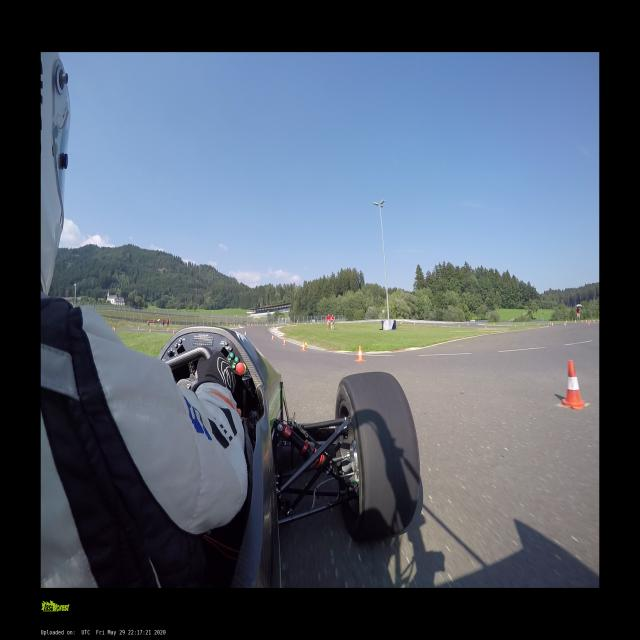orange_cone: (562, 360, 585, 410), (356, 346, 365, 361), (302, 342, 306, 351), (282, 338, 286, 345), (244, 330, 247, 336), (271, 334, 274, 340), (173, 329, 175, 334), (149, 328, 151, 333), (167, 328, 169, 332), (138, 326, 140, 330), (114, 327, 115, 331), (587, 322, 589, 324), (113, 326, 114, 330), (598, 319, 599, 322)
yellow_cone: (301, 341, 307, 348)
